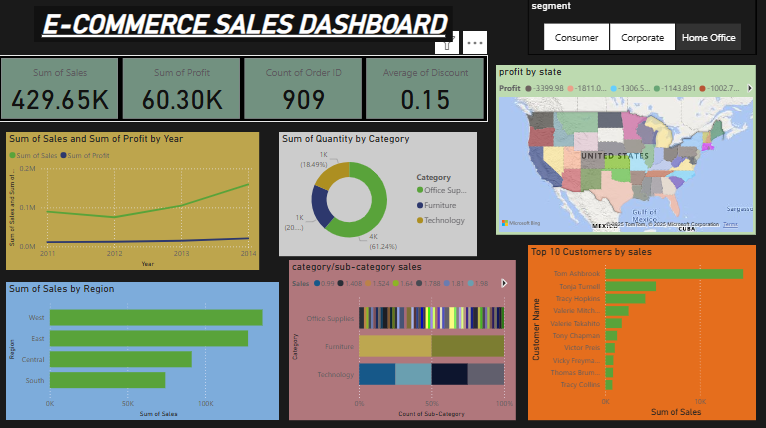

The page's visual inventory and layout, read from the dashboard file:
{"tool":"powerbi","page":{"name":"P","canvas":[1280,720],"ordinal":0},"visuals":[{"type":"cardVisual","fields":{"Data":["Orders.Sales","Orders.Profit","Orders.Order ID","Orders.Discount"]},"box":[0,93.3,816.7,111.7],"z":0},{"type":"lineChart","fields":{"Category":["Orders.Order Date.Variation.Date Hierarchy.Year","Orders.Order Date.Variation.Date Hierarchy.Month"],"Y":["Orders.Sales","Orders.Profit"]},"box":[13.3,221.7,421.7,230],"z":1000},{"type":"barChart","fields":{"Category":["Orders.Region"],"Y":["Orders.Sales"]},"box":[13.3,471.7,455,230],"z":2000},{"type":"filledMap","title":"profit by state","fields":{"Category":["Orders.State"],"Series":["Orders.Profit"]},"box":[830,110,433.3,283.3],"z":3000},{"type":"hundredPercentStackedBarChart","title":"category/sub-category sales","fields":{"Category":["Orders.Category"],"Series":["Orders.Sales"],"Y":["Orders.Sub-Category"]},"box":[485,435,378.3,266.7],"z":4000},{"type":"barChart","title":"Top 10 Customers by sales","fields":{"Category":["Orders.Customer Name"],"Y":["Orders.Sales"]},"box":[883.3,410,380,291.7],"z":5000},{"type":"slicer","title":"segment","fields":{"Values":["Orders.Segment"]},"box":[883.3,0,380,93.3],"z":6000},{"type":"donutChart","fields":{"Category":["Orders.Category"],"Y":["Orders.Quantity"]},"box":[468.3,221.7,330,206.7],"z":7000},{"type":"textbox","box":[60,11.7,698.3,60],"z":7001}]}

Visuals, with their boxes in screenshot pixels (x1, y1, x2, y2), scaled from the page's 1280x720 canvas onto the 766x428 screenshot:
cardVisual - Orders.Sales x Orders.Profit: locate(0, 55, 489, 122)
lineChart - Orders.Order Date.Variation.Date Hierarchy.Year x Orders.Order Date.Variation.Date Hierarchy.Month: locate(8, 132, 260, 269)
barChart - Orders.Region x Orders.Sales: locate(8, 280, 280, 417)
"profit by state" filledMap: locate(497, 65, 756, 234)
"category/sub-category sales" hundredPercentStackedBarChart: locate(290, 259, 517, 417)
"Top 10 Customers by sales" barChart: locate(529, 244, 756, 417)
"segment" slicer: locate(529, 0, 756, 55)
donutChart - Orders.Category x Orders.Quantity: locate(280, 132, 478, 255)
textbox: locate(36, 7, 454, 43)
